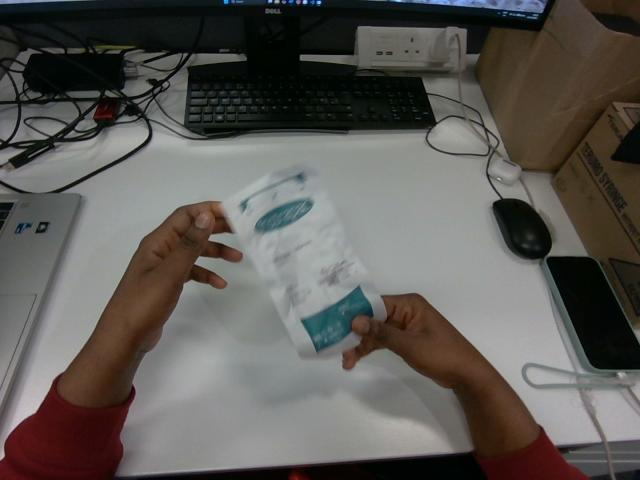gallipot: (223, 166, 385, 356)
